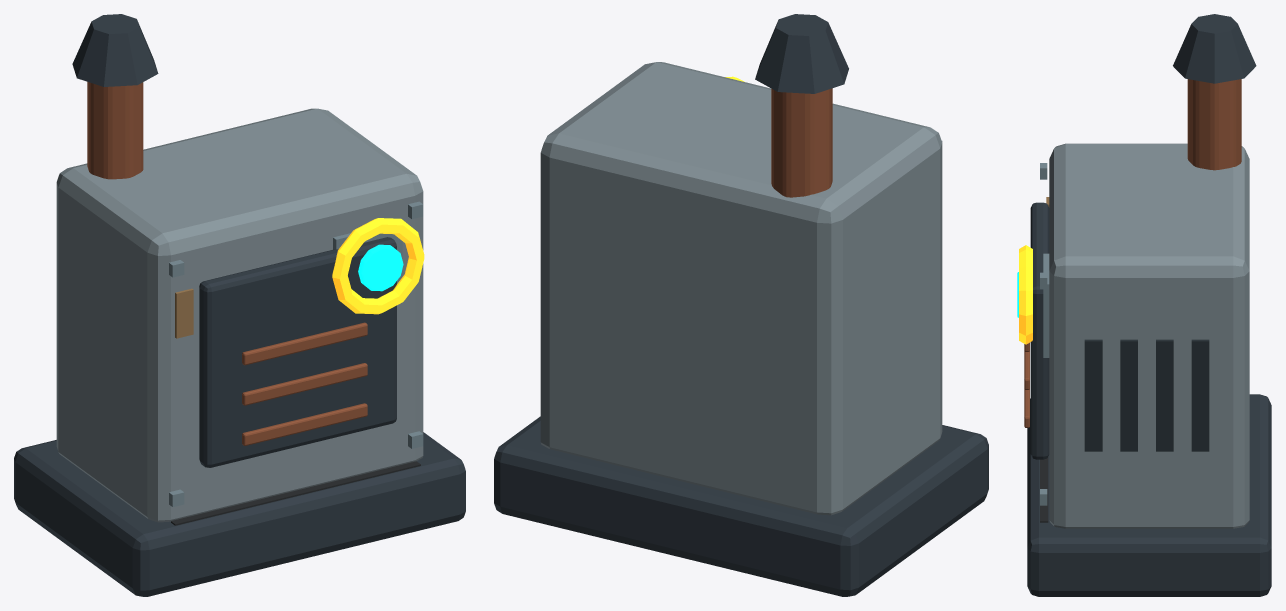
File: Machine-Unit.glb
The picture shows the model from 3 angles, left to right: view 1: azimuth 30°, elevation 25°; view 2: azimuth 150°, elevation 25°; view 3: azimuth 270°, elevation 25°; orthographic projection. The views are drawn at different scales.
Visible parts, largest first — view 1: Machine_Body, Machine_Base, Machine_FrontPanel, Machine_Exhaust, Machine_ExhaustCap, Machine_Gauge, Detail_Assembly, Machine_Vent_2, Machine_Vent_1, Machine_Vent_0, Machine_GaugeCore; view 2: Machine_Body, Machine_Base, Machine_Exhaust, Machine_ExhaustCap; view 3: Machine_Body, Machine_Base, Detail_Assembly, Machine_Exhaust, Machine_ExhaustCap, Machine_FrontPanel, Machine_Gauge.
Part boxes in pixels (x1,y1,x2,y2): Machine_Body: [56, 108, 423, 522]; Machine_Base: [14, 432, 465, 596]; Machine_FrontPanel: [199, 237, 396, 467]; Machine_Exhaust: [87, 82, 143, 179]; Machine_ExhaustCap: [72, 14, 158, 86]; Machine_Gauge: [332, 218, 424, 314]; Detail_Assembly: [169, 201, 423, 525]; Machine_Vent_2: [242, 322, 367, 365]; Machine_Vent_1: [242, 363, 367, 405]; Machine_Vent_0: [242, 403, 367, 445]; Machine_GaugeCore: [358, 244, 403, 291]; Machine_Body: [540, 62, 942, 515]; Machine_Base: [494, 416, 988, 596]; Machine_Exhaust: [771, 88, 832, 197]; Machine_ExhaustCap: [755, 14, 848, 93]; Machine_Body: [1049, 143, 1249, 528]; Machine_Base: [1027, 394, 1271, 596]; Detail_Assembly: [1040, 163, 1209, 522]; Machine_Exhaust: [1187, 79, 1241, 170]; Machine_ExhaustCap: [1173, 14, 1256, 83]; Machine_FrontPanel: [1030, 202, 1049, 459]; Machine_Gauge: [1019, 245, 1032, 344].
Size of the model in its own units: 1.55 by 2.18 by 1.09.
